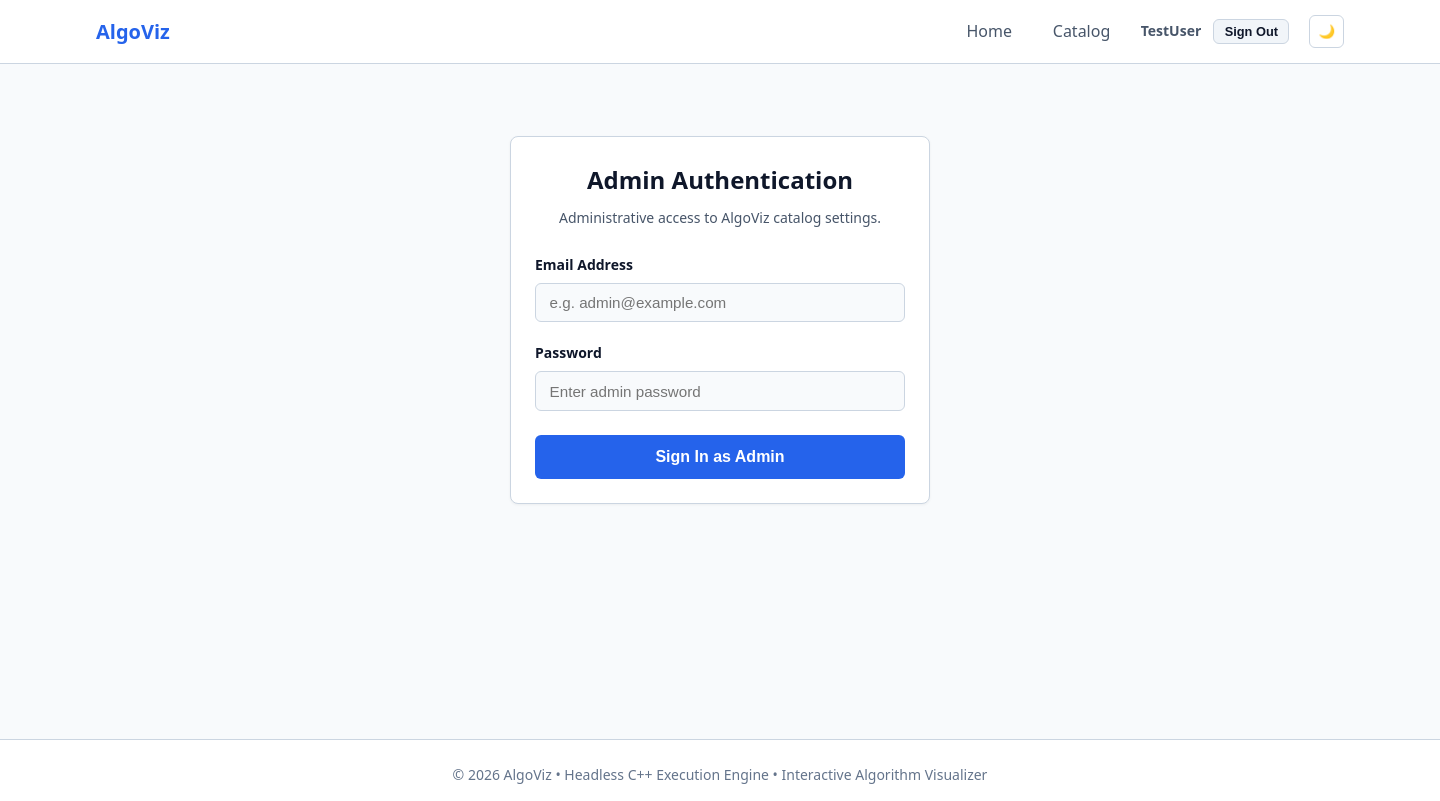
Test: Frontend Administrator Authentication System Tests › 2. Successful admin login sends credentials to /api/admin/login and navigates to "/admin/dashboard"
The width and height of the screenshot is (1440, 801).
Type "admin@algoviz.test" into the field labelled "Email Address" at (720, 302), box [535, 283, 905, 322]
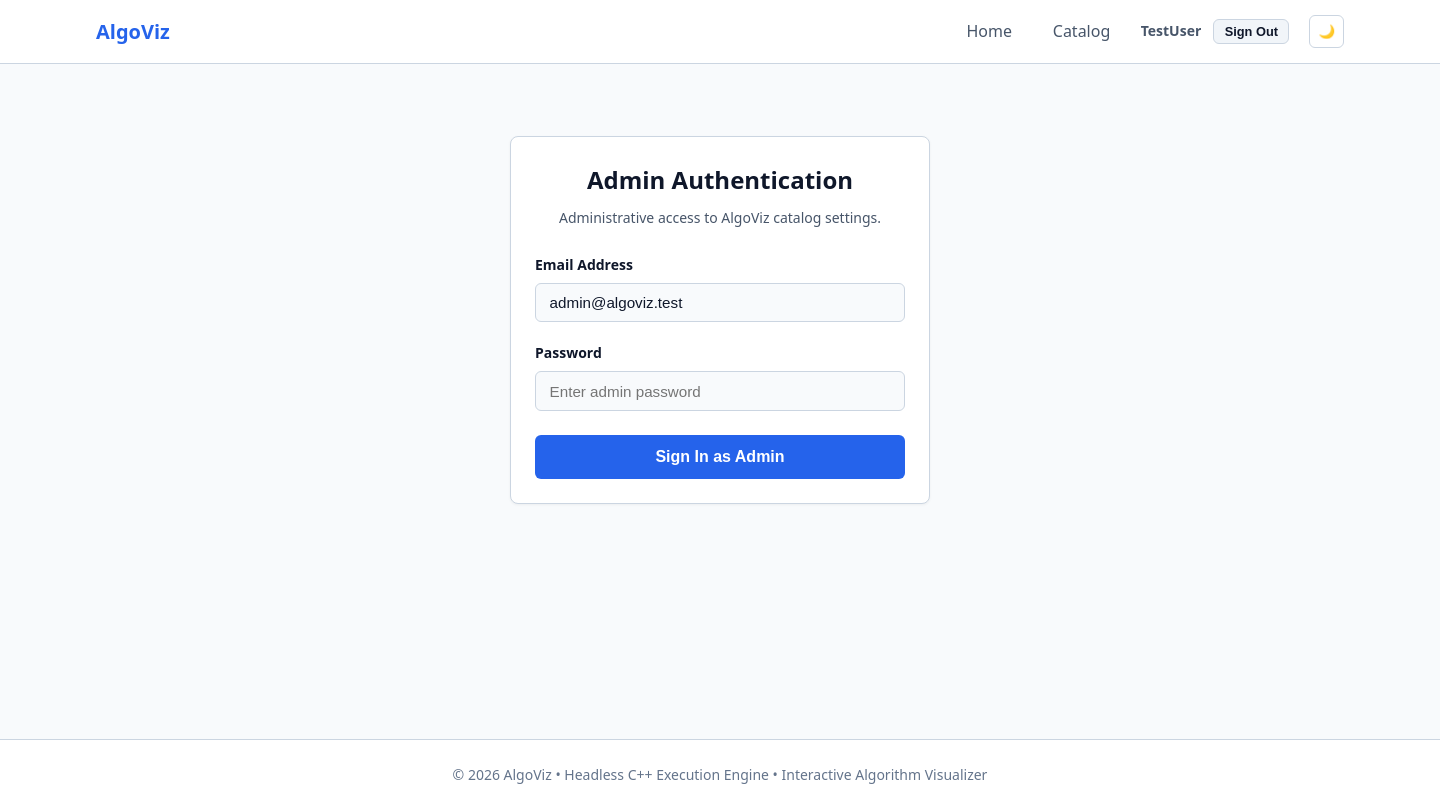
Type "CorrectAdminPassword123!" into the password field labelled "Password" at (720, 391), box [535, 371, 905, 411]
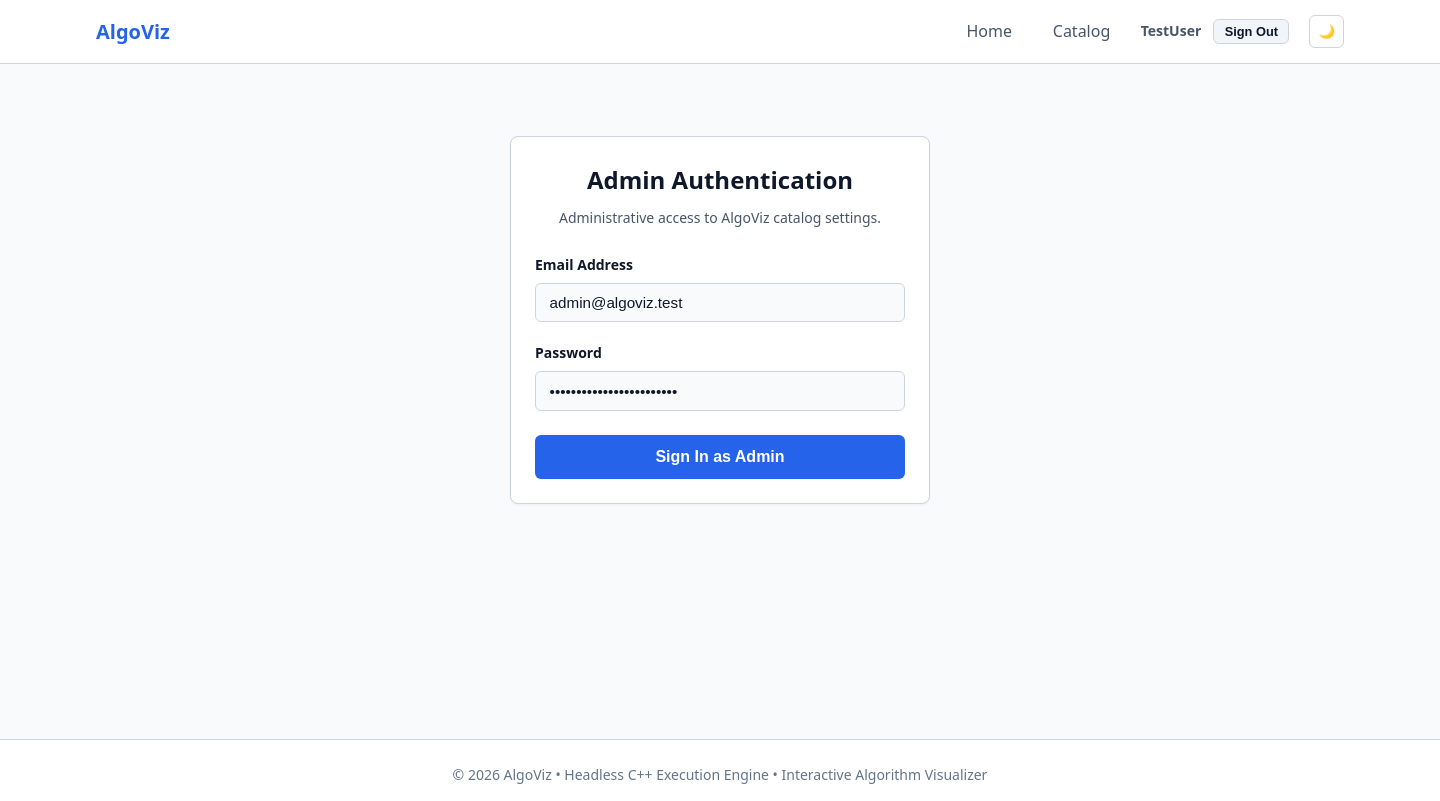
Click the button "Sign In as Admin" at (720, 457), box [535, 435, 905, 479]
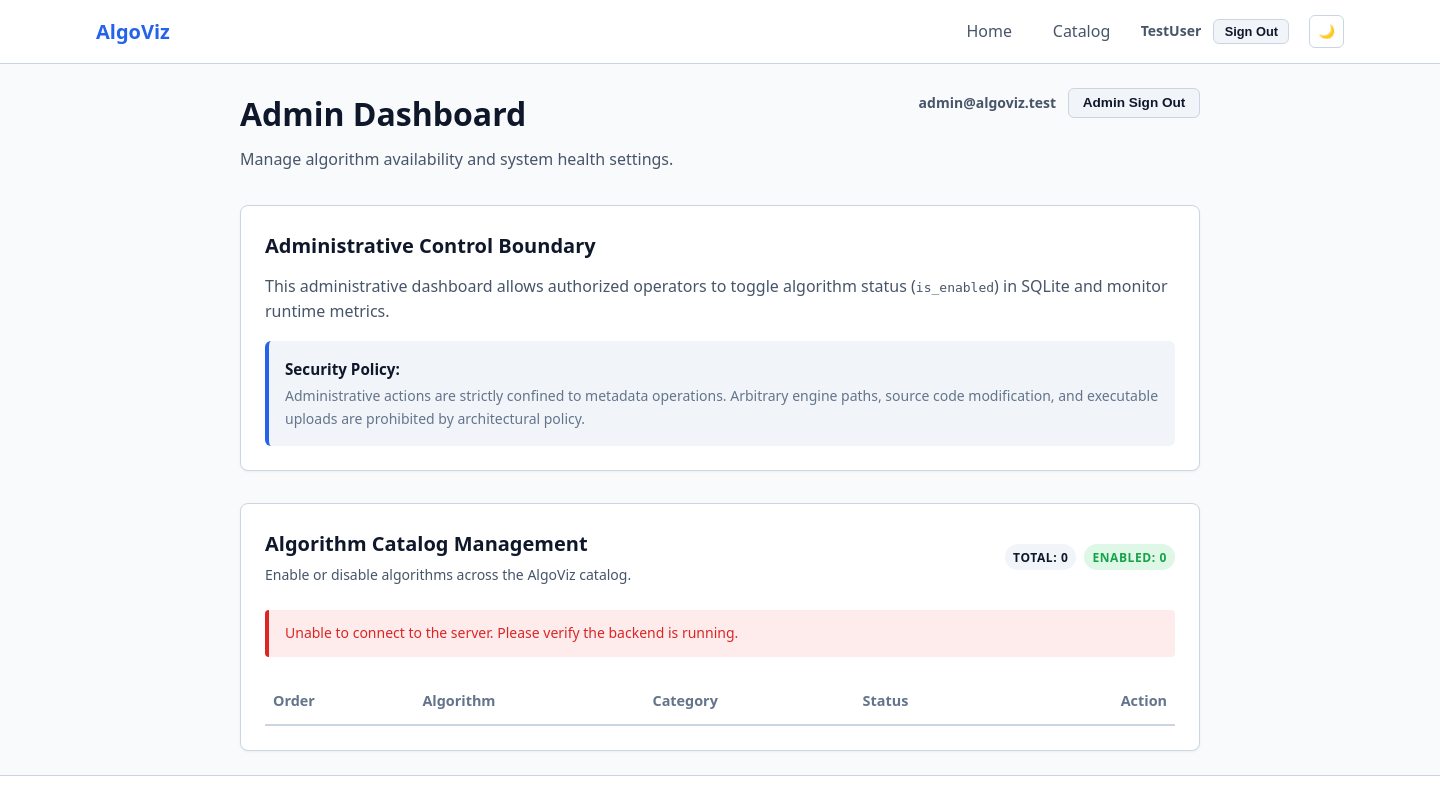
Result: the heading "Admin Dashboard" is shown at [240, 92, 526, 135]
Result: the text "admin@algoviz.test" is shown at [919, 92, 1056, 114]
Result: the button "Admin Sign Out" is shown at [1068, 88, 1200, 118]
